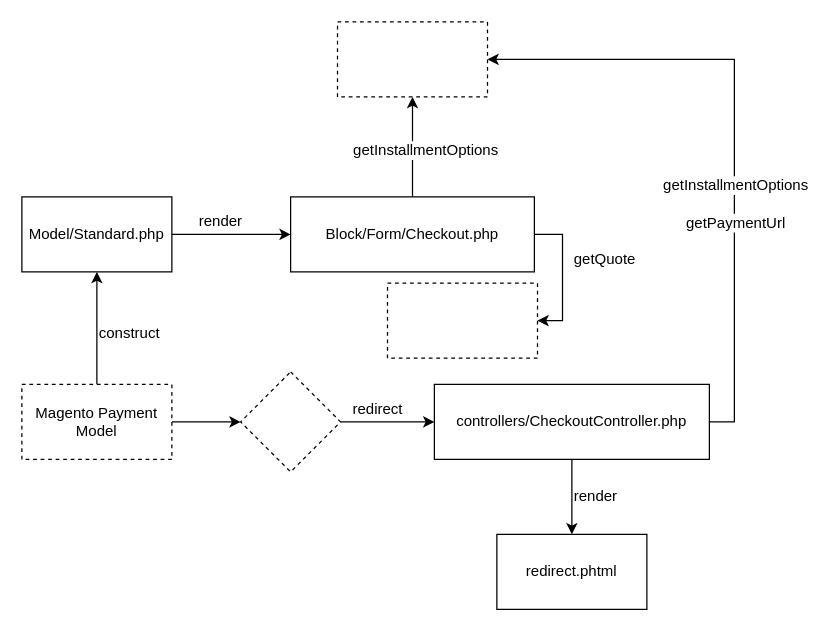
This 829x631 diagram has some shape labels left out. Each missing label, with the box of its shape:
IndodanaAPI: (336, 21, 488, 97)
Magento Quote Model: (386, 282, 538, 358)
Place Order: (239, 371, 341, 472)
